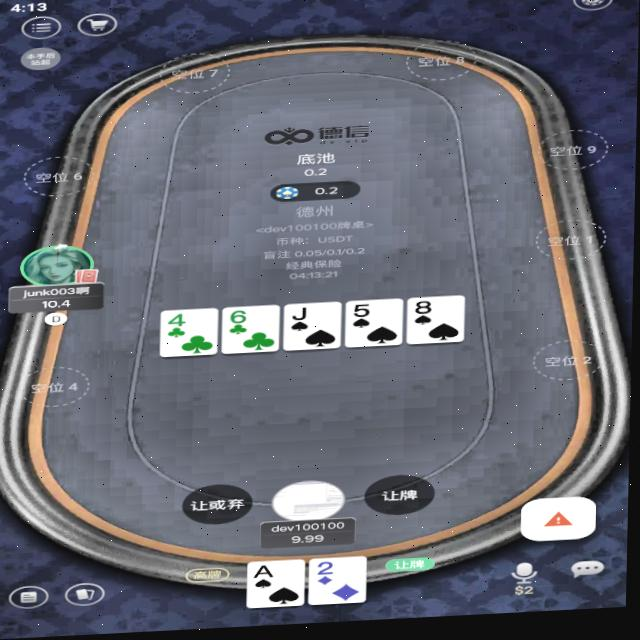2f: (316, 563, 339, 581)
4m: (163, 312, 195, 332)
5s: (352, 305, 375, 323)
6m: (228, 310, 251, 328)
8s: (413, 303, 438, 321)
As: (252, 566, 284, 584)
Js: (291, 308, 313, 325)
